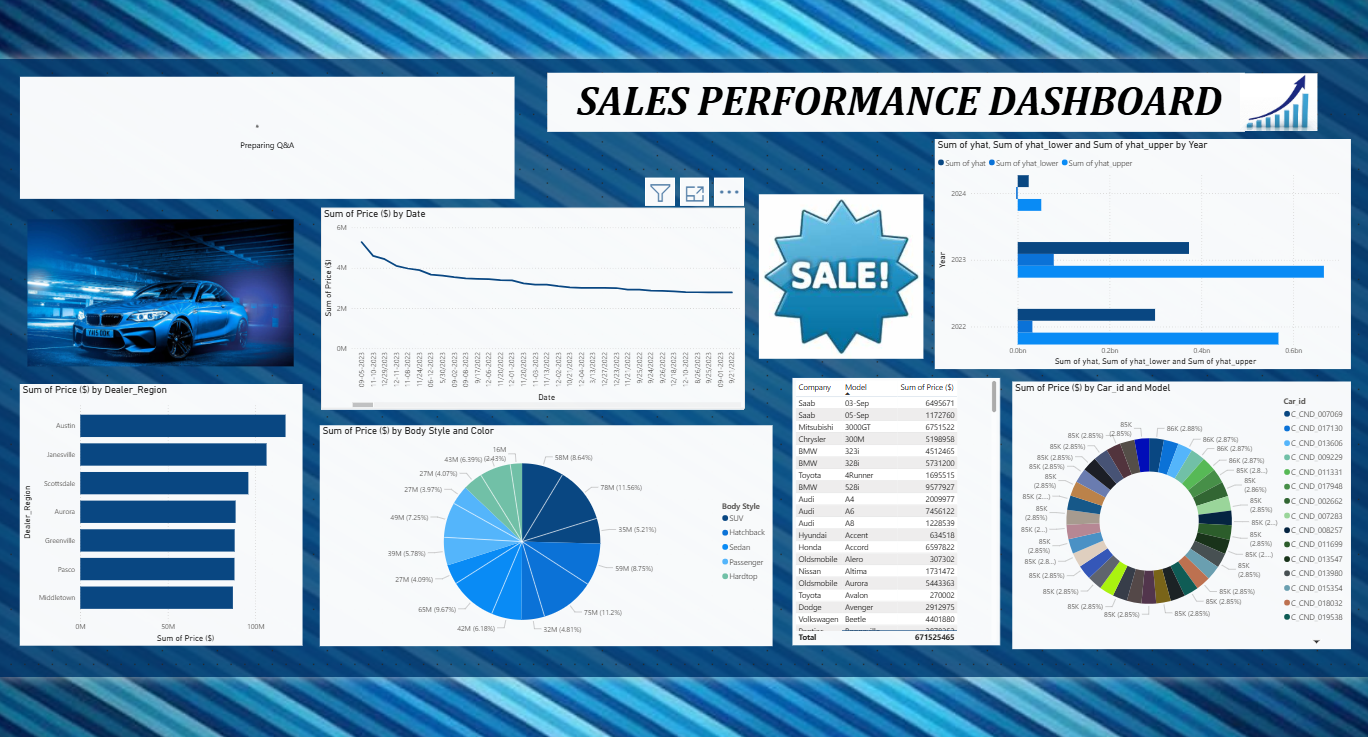

The dashboard page shown, as its layout file describes it:
{"tool":"powerbi","page":{"name":"interactive sales dashboard","canvas":[2400,1080],"ordinal":0},"visuals":[{"type":"lineChart","fields":{"Category":["car sales.Date"],"Y":["Sum(car sales.Price ($))"]},"box":[568.2,258.6,738.6,352.7],"z":0},{"type":"barChart","fields":{"Category":["car sales.Dealer_Region"],"Y":["Sum(car sales.Price ($))"]},"box":[41.1,568.2,493.7,456.5],"z":1000},{"type":"pieChart","fields":{"Category":["car sales.Body Style"],"Series":["car sales.Color"],"Y":["Sum(car sales.Price ($))"]},"box":[565.5,638.8,790.7,385.7],"z":2000},{"type":"tableEx","fields":{"Values":["car sales.Company","car sales.Model","Sum(car sales.Price ($))"]},"box":[1389.8,556.4,362.2,466.9],"z":3000},{"type":"qnaVisual","box":[41.7,30.8,864,213.7],"z":4000},{"type":"textbox","box":[961.8,23.5,1217.2,103.2],"z":5000},{"type":"image","box":[19.6,274.3,534.9,266.4],"z":6000},{"type":"image","box":[2166.3,16.3,144.9,119.5],"z":7000},{"type":"image","box":[1251.5,230.4,445.1,296.7],"z":8000},{"type":"donutChart","fields":{"Category":["car sales.Car_id"],"Series":["car sales.Model"],"Y":["Sum(car sales.Price ($))"]},"box":[1773.8,562.9,591.3,466.9],"z":9000},{"type":"clusteredBarChart","fields":{"Y":["Sum(forecast_output.yhat)","Sum(forecast_output.yhat_lower)","Sum(forecast_output.yhat_upper)"],"Category":["forecast_output.ds.Variation.Date Hierarchy.Year","forecast_output.ds.Variation.Date Hierarchy.Quarter","forecast_output.ds.Variation.Date Hierarchy.Month","forecast_output.ds.Variation.Date Hierarchy.Day"]},"box":[1638.5,139.6,726.5,401.5],"z":10000}]}

Visuals, with their boxes in screenshot pixels (x1, y1, x2, y2):
lineChart - car sales.Date x Sum(car sales.Price ($)): bbox=(303, 201, 733, 406)
barChart - car sales.Dealer_Region x Sum(car sales.Price ($)): bbox=(0, 381, 283, 647)
pieChart - car sales.Body Style x car sales.Color: bbox=(301, 422, 762, 647)
tableEx - car sales.Company x car sales.Model: bbox=(781, 374, 993, 646)
qnaVisual: bbox=(0, 68, 499, 192)
textbox: bbox=(532, 64, 1241, 124)
image: bbox=(0, 210, 295, 365)
image: bbox=(1234, 59, 1318, 129)
image: bbox=(701, 184, 960, 357)
donutChart - car sales.Car_id x car sales.Model: bbox=(1005, 378, 1350, 650)
clusteredBarChart - Sum(forecast_output.yhat) x Sum(forecast_output.yhat_lower): bbox=(926, 131, 1350, 365)
